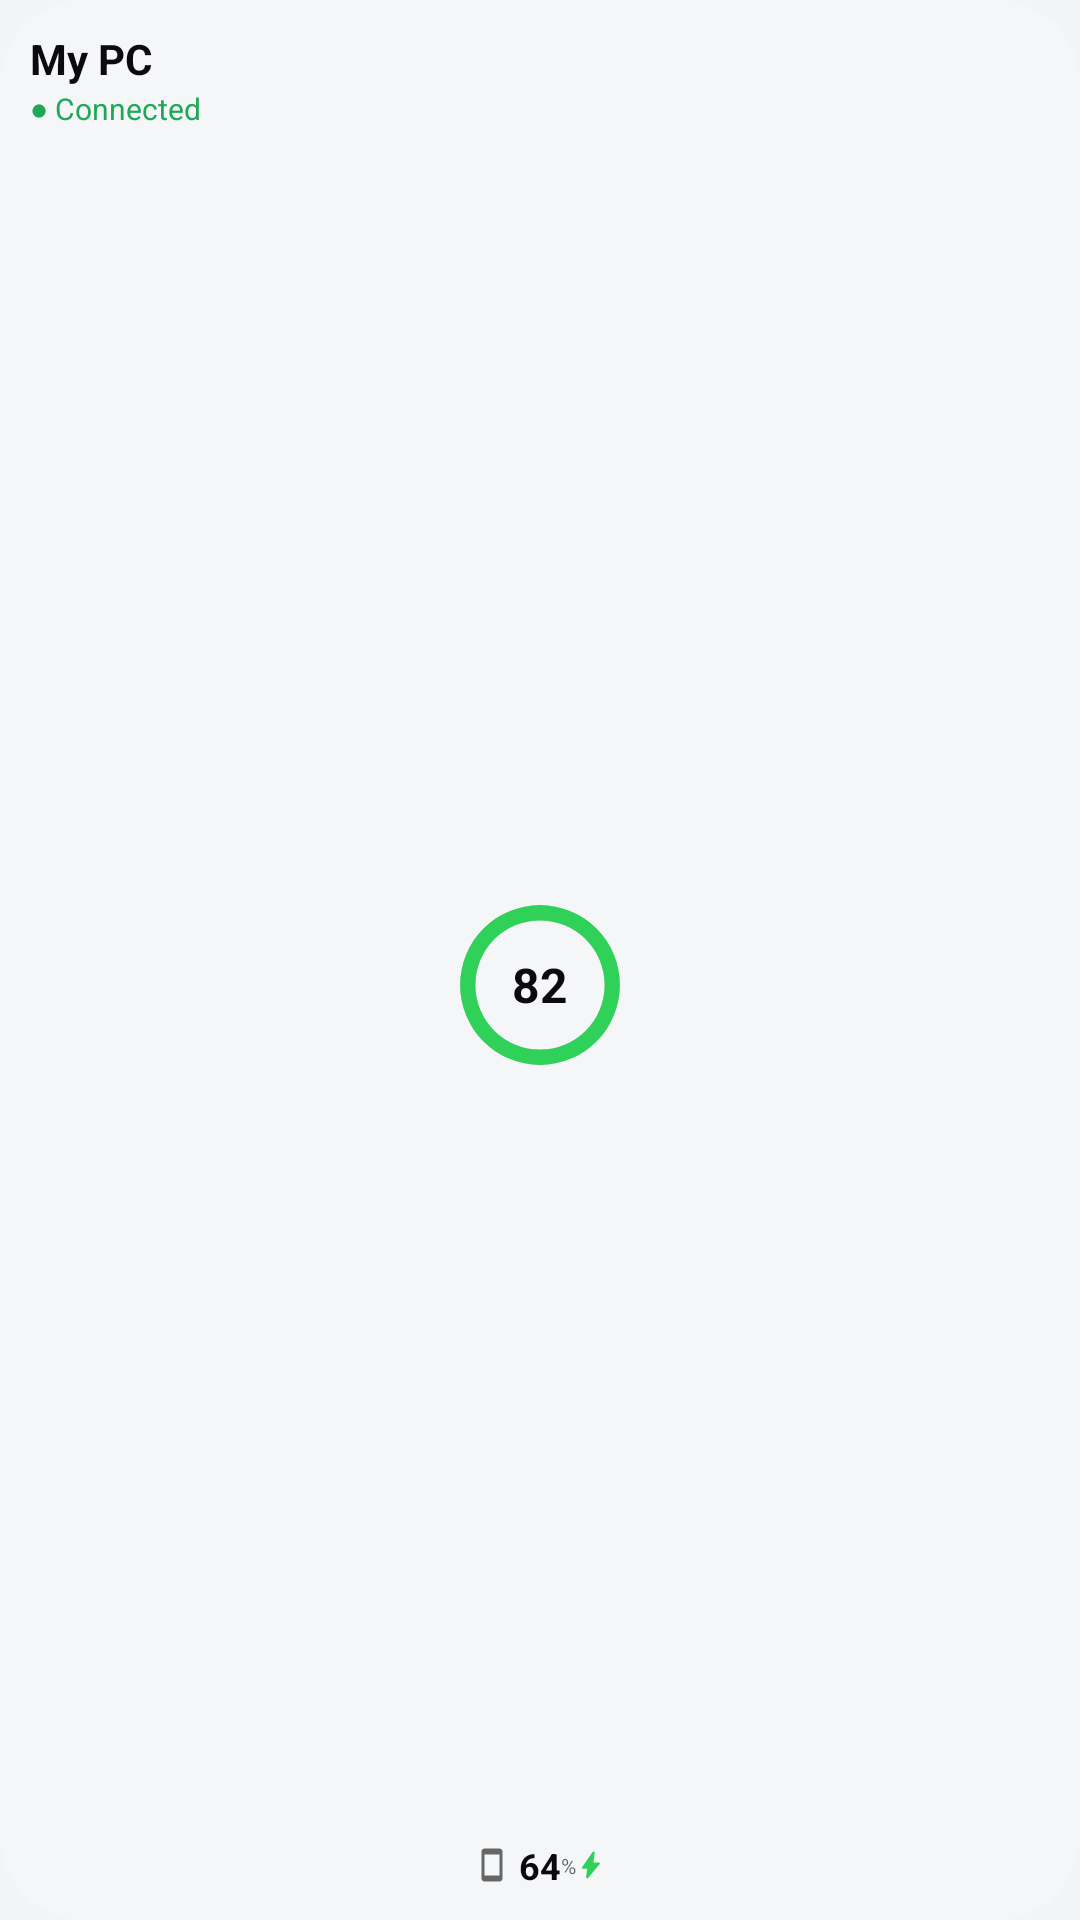

Locate icon controls on the screen. Image size 1080px×1920px, boxes as (x1, y1, x2, y2).
bolt: (582, 1851, 600, 1879)
phone: (481, 1848, 503, 1882)
